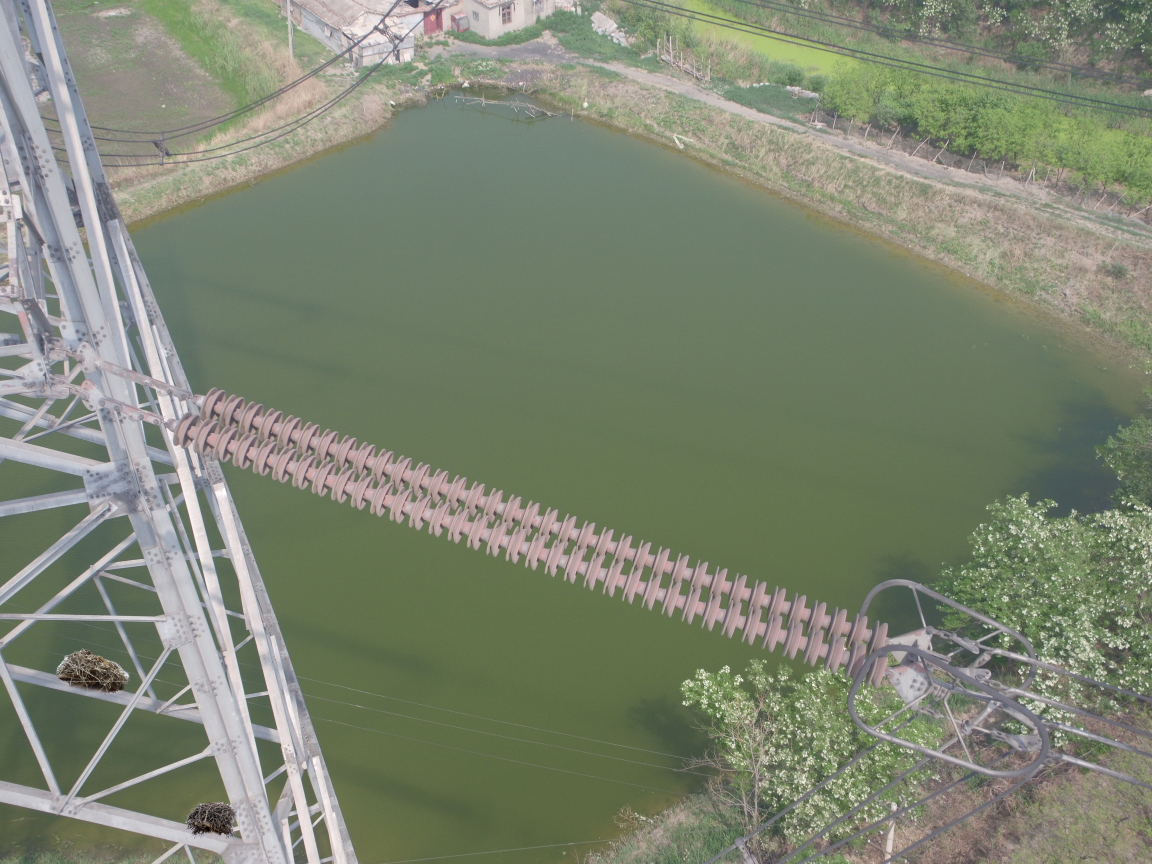nest: (51, 643, 132, 699), (181, 798, 243, 840)
